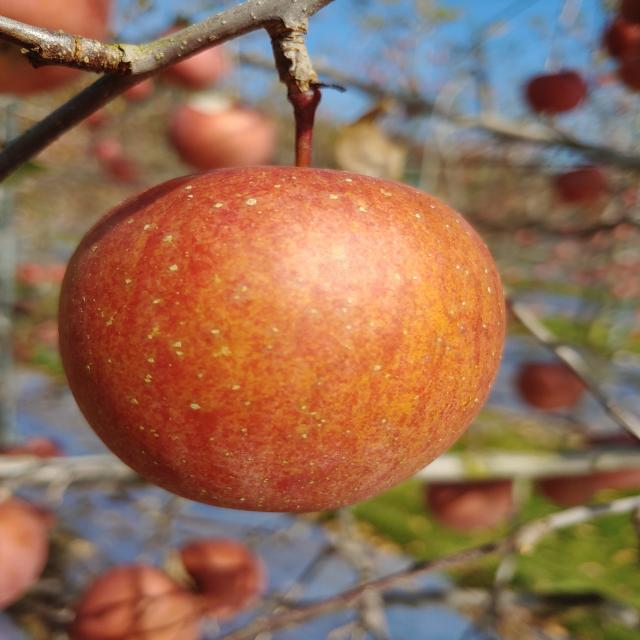fresh: (50, 159, 519, 519)
